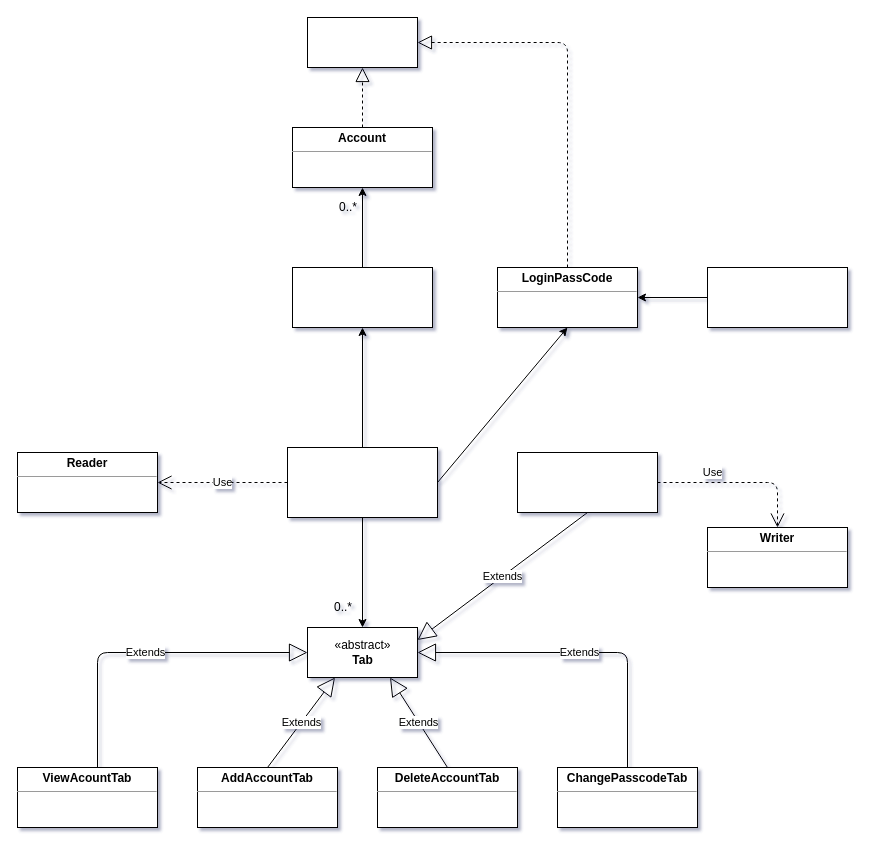
Some shapes in this 871 by 851 pixel diagram are drawn without their labels. The centre of each missing label's shape, as x and y in pixels:
"AccountList" belongs at (x=362, y=297).
"LoginPageGUI" belongs at (x=777, y=297).
"PasswordManagerGUI" belongs at (x=362, y=482).
"SaveTab" belongs at (x=587, y=482).
"«interface» Saveable" belongs at (x=362, y=42).
